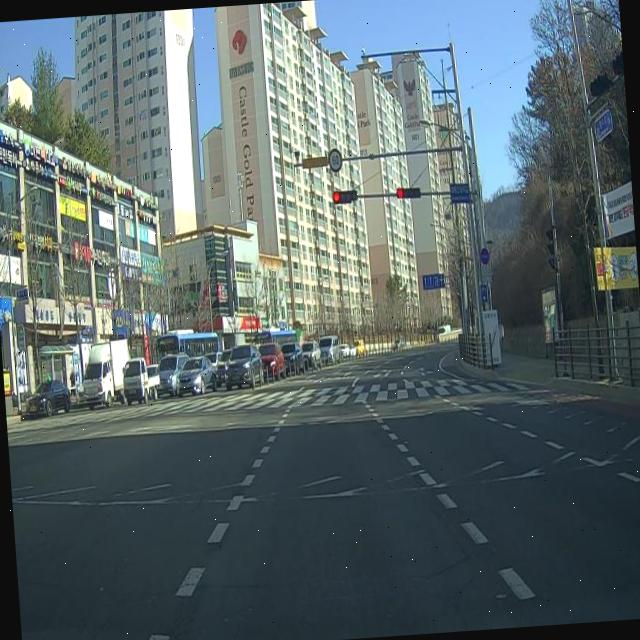crosswalk: (67, 374, 532, 421)
